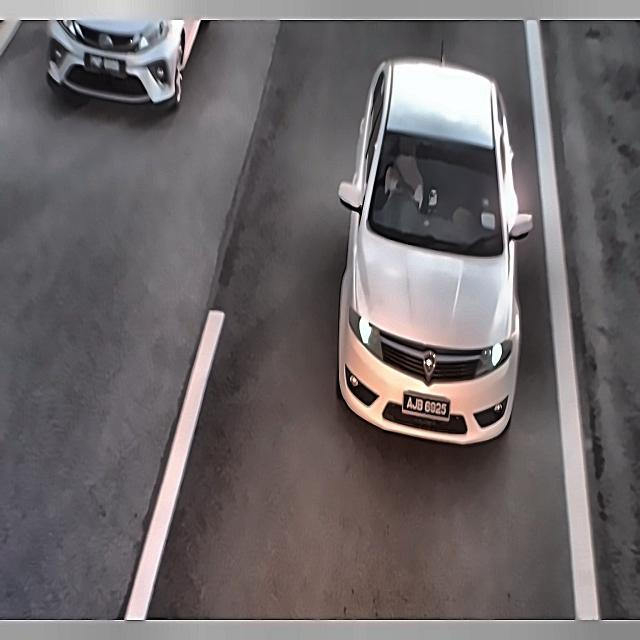car: (400, 383, 454, 424), (81, 50, 128, 78)
